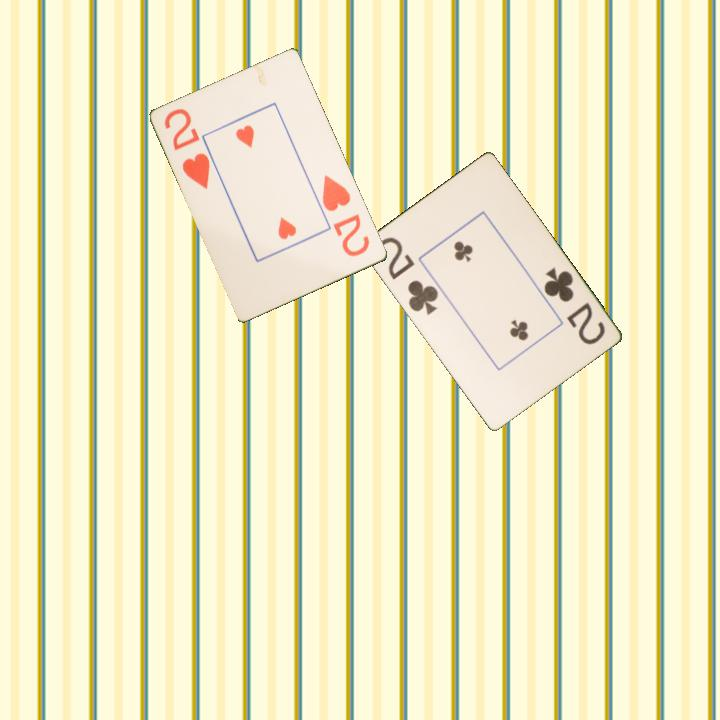2c: (371, 233, 441, 318), (540, 263, 608, 348)
2h: (319, 171, 373, 260), (161, 105, 213, 192)
